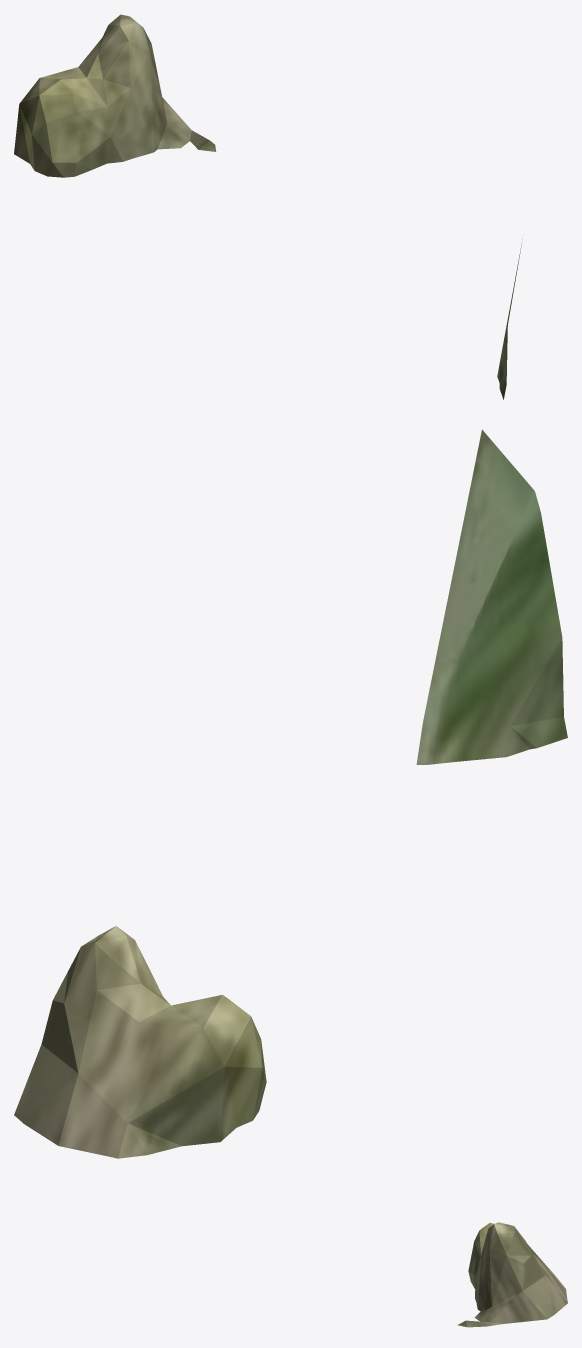
The picture shows the model from 3 angles, top to bottom: view 1: azimuth 30°, elevation 25°; view 2: azimuth 150°, elevation 25°; view 3: azimuth 270°, elevation 25°; orthographic projection. The views are drawn at different scales.
Bounding box in the file's own units: 1.32 × 1.46 × 5.02.
Materials: 1 (1 with a texture image).
